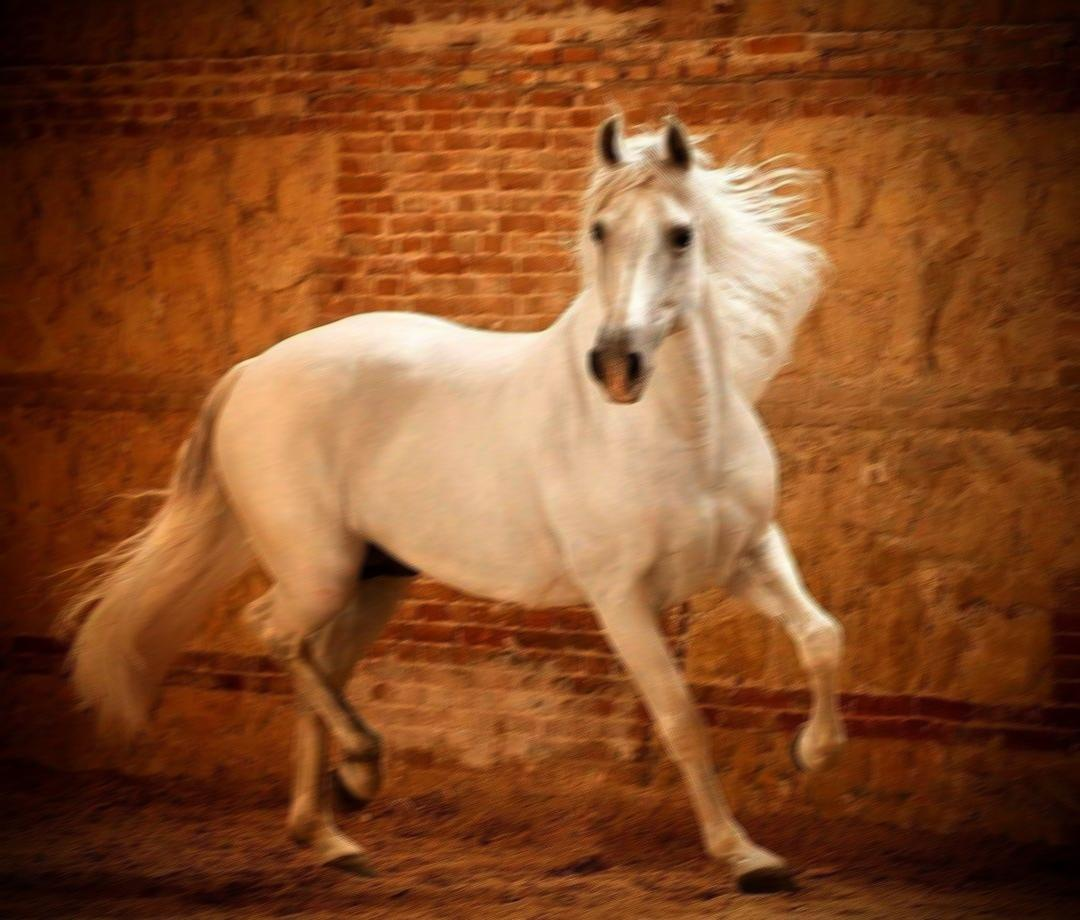horse: (35, 96, 847, 892)
